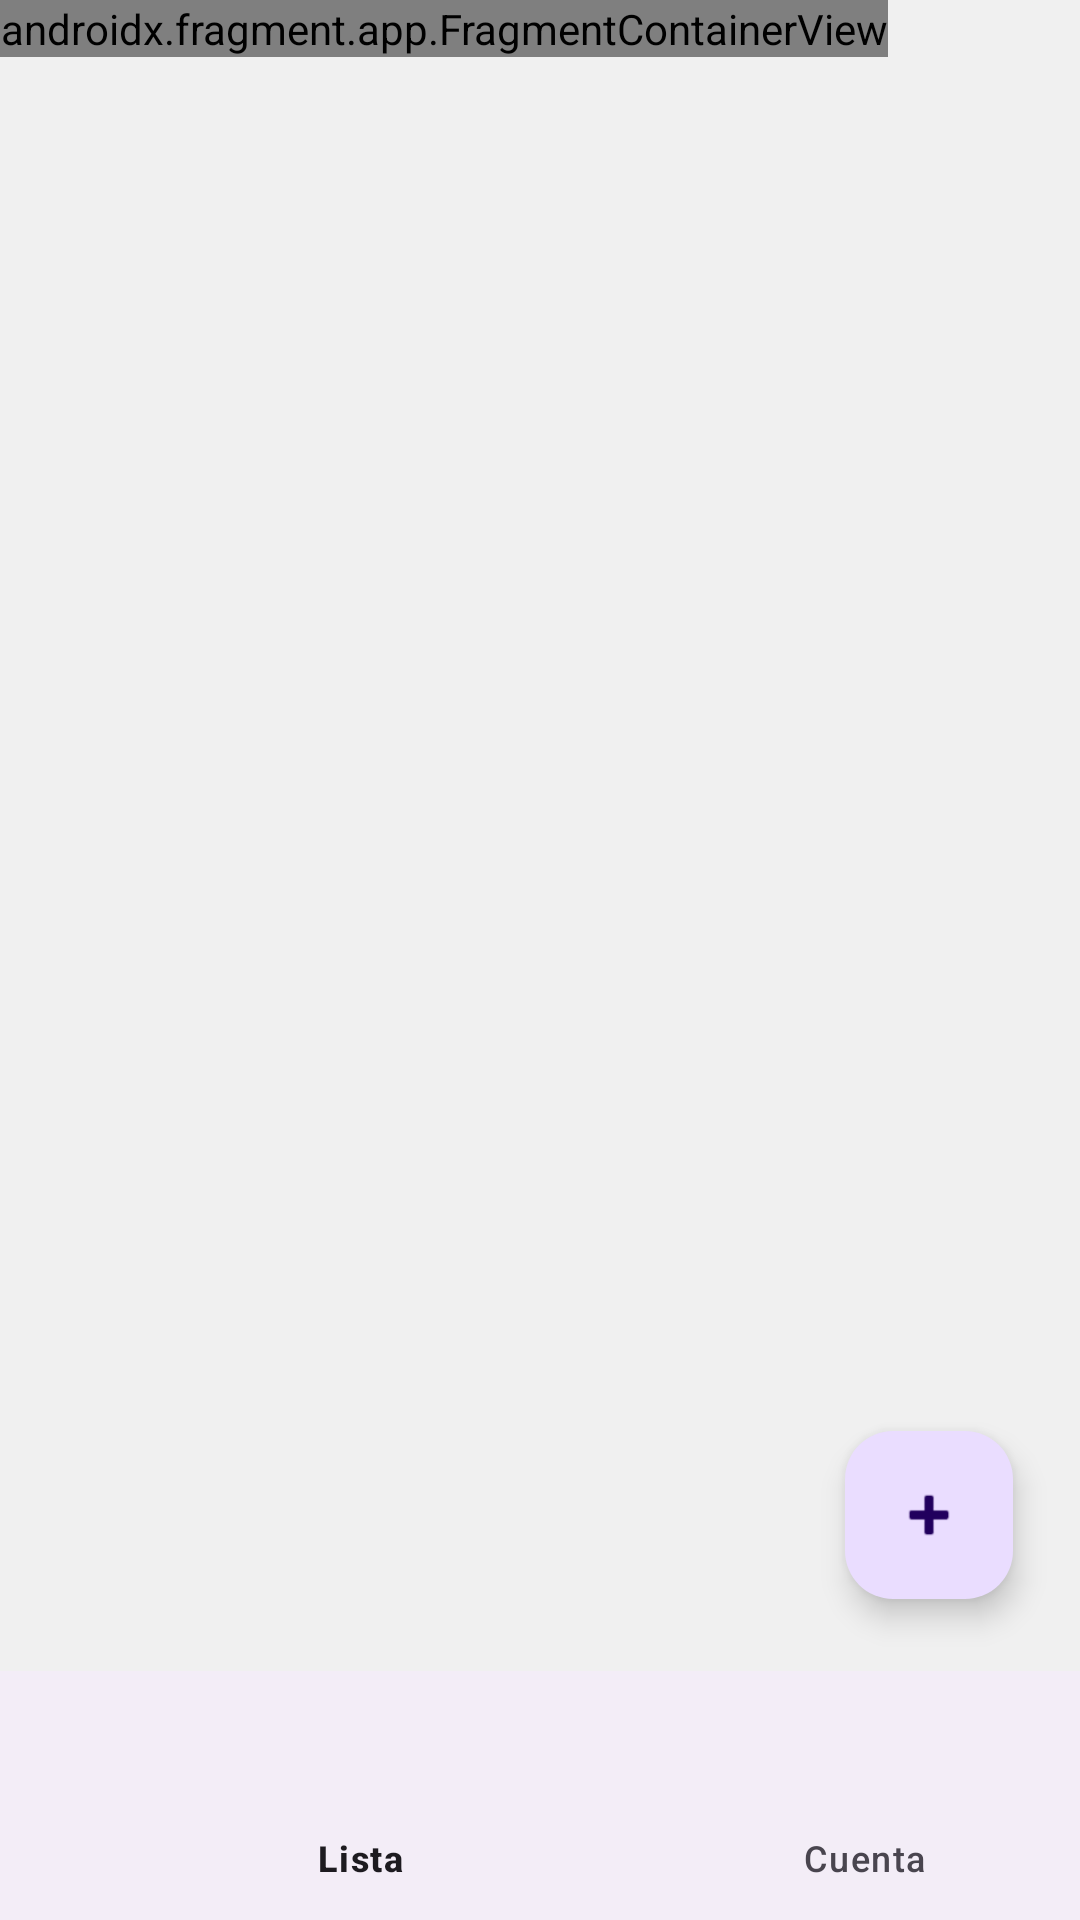

Named icons in this screenshot (1080 x 1920) and their bounding boxes, region(x1, y1, x2, y2):
add: region(845, 1431, 1013, 1599)
